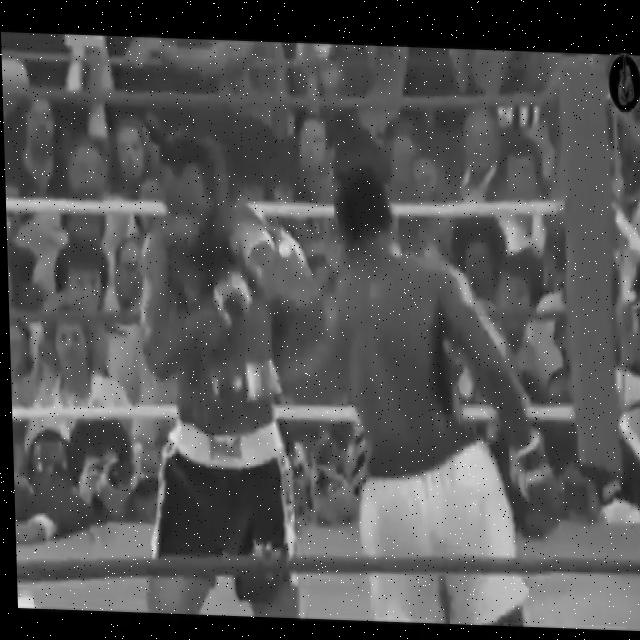Jab: (180, 182, 420, 496)
